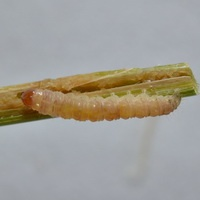insect: (0, 63, 197, 124)
